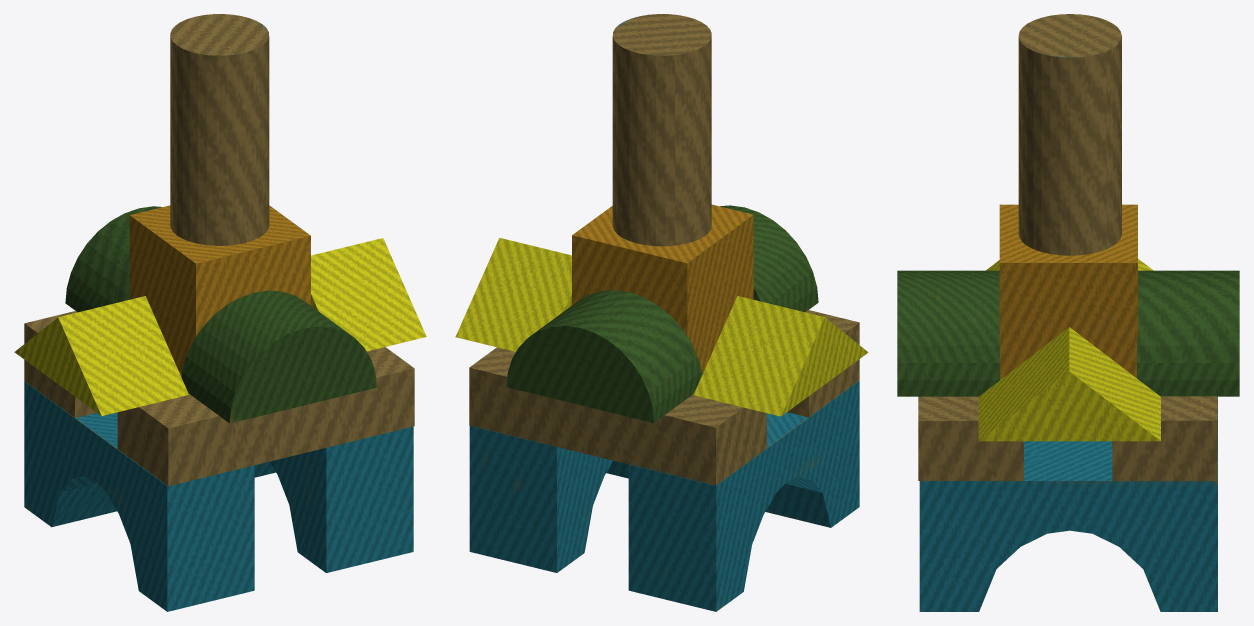
File: TowerBottomHalf.fbx
The picture shows the model from 3 angles, left to right: view 1: azimuth 30°, elevation 25°; view 2: azimuth 150°, elevation 25°; view 3: azimuth 270°, elevation 25°; orthographic projection. The views are drawn at different scales.
Visible parts, largest first — view 1: Cylinder; view 2: Cylinder; view 3: Cylinder.
Boxes of the visible parts, left/top/right/bottom form: Cylinder: left=14, top=14, right=426, bottom=611; Cylinder: left=455, top=14, right=868, bottom=611; Cylinder: left=897, top=14, right=1239, bottom=611.
Size of the model in its own units: 441 by 641 by 386.
1 material, 1 textured.
